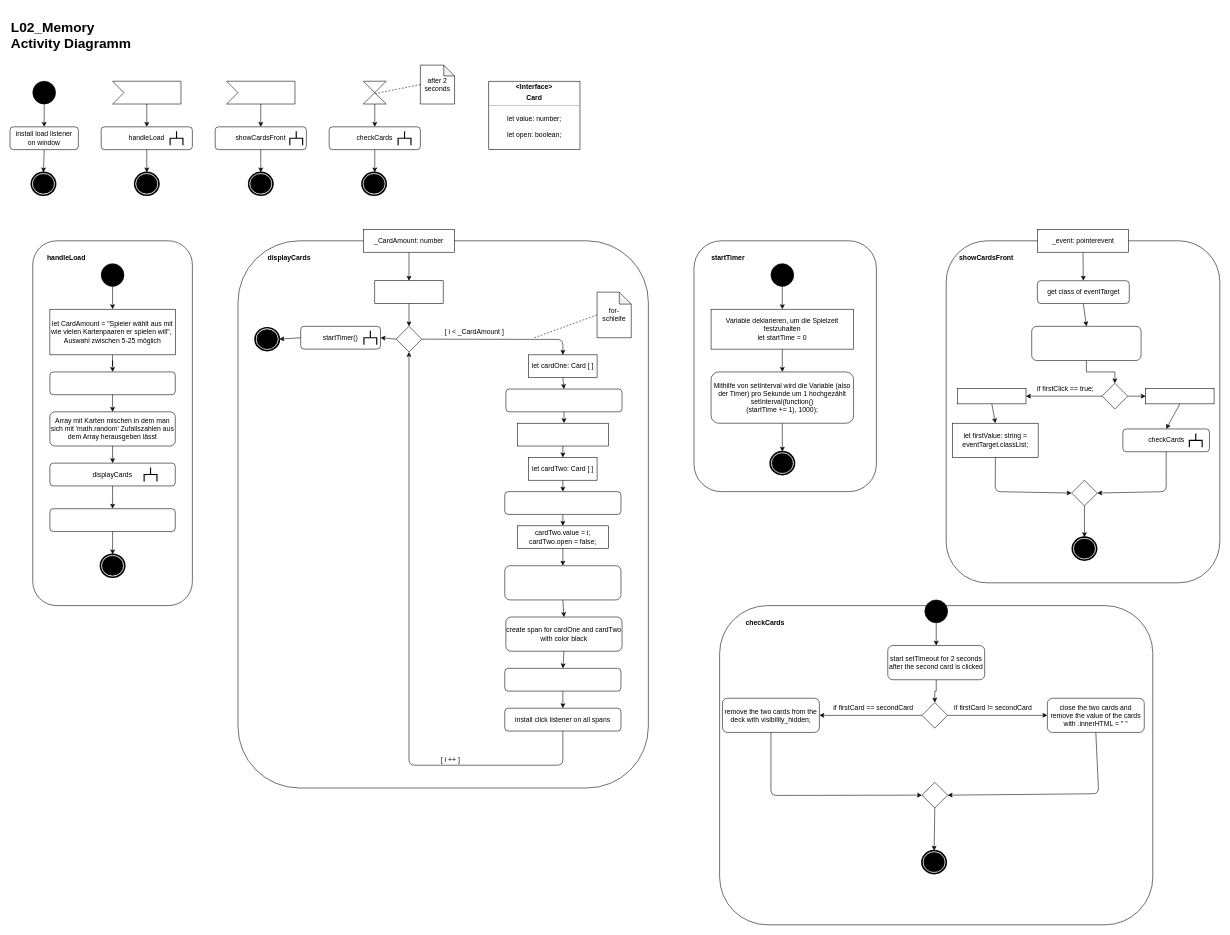
Some shapes in this 1230 by 935 pixel diagram are drawn without their labels. The shapes that lost their labels are listed below. From the top down, each one's centre as x and y in pixels, then its label:
point (146, 92): load
point (260, 92): click
point (408, 292): let i: number = 0
point (1086, 343): Nun soll der Wert der Karte, d. h. die Farbe angezeigt werden
point (112, 383): Array erstellen und die Karten darin definieren
point (563, 400): set back color of card one
point (991, 396): firstClick = false;
point (1179, 396): firstClick = true;
point (562, 434): cardOne.value = i; cardOne.open = false;
point (112, 520): install click listener on window or document
point (562, 502): set back color of card two
point (562, 582): push cardOne and cardTwo into the allCards Array
point (562, 679): add i as class
